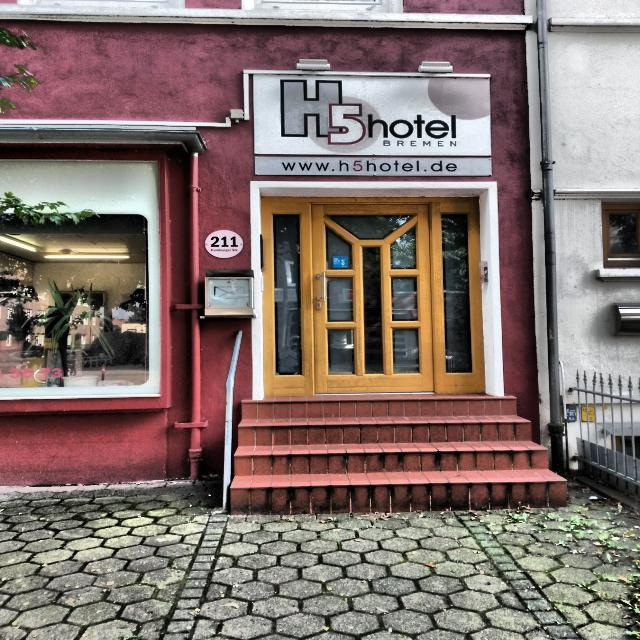escada: (225, 394, 567, 511)
